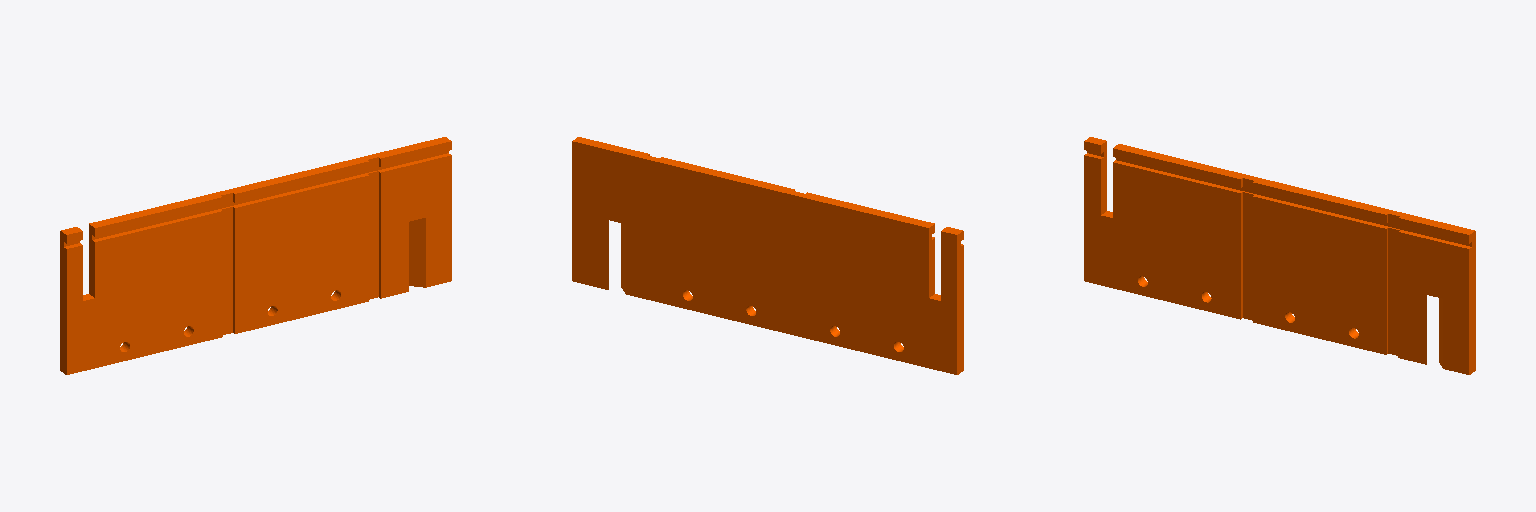
3 views of the same model, side by side, from view 1: azimuth 30°, elevation 25°; view 2: azimuth 150°, elevation 25°; view 3: azimuth 330°, elevation 25° (orthographic).
Visible parts, largest first — view 1: orange_part; view 2: orange_part; view 3: orange_part.
Part boxes in pixels (bbox=[...]): orange_part: bbox=[60, 137, 451, 374]; orange_part: bbox=[572, 137, 963, 374]; orange_part: bbox=[1084, 137, 1475, 374].
Size of the model in its own units: 0.23 by 0.08 by 0.0065.
Materials: 1 (1 with a texture image).